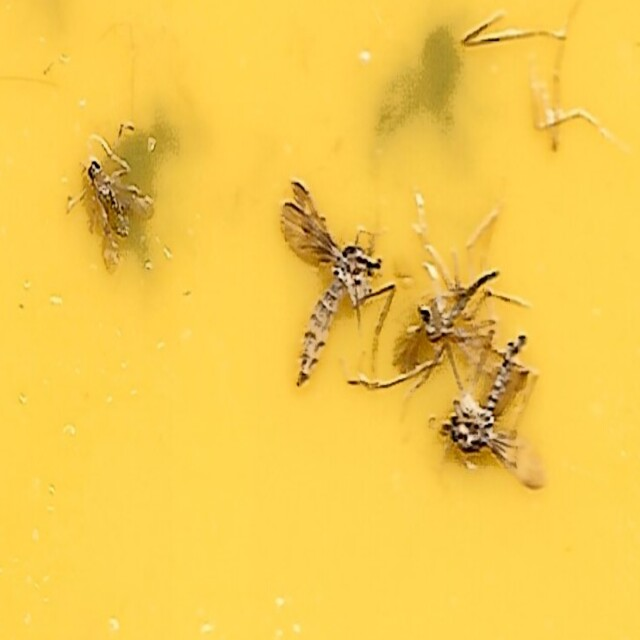Nematocera: (279, 173, 382, 391), (440, 333, 554, 498), (393, 265, 504, 388), (86, 142, 161, 278)
